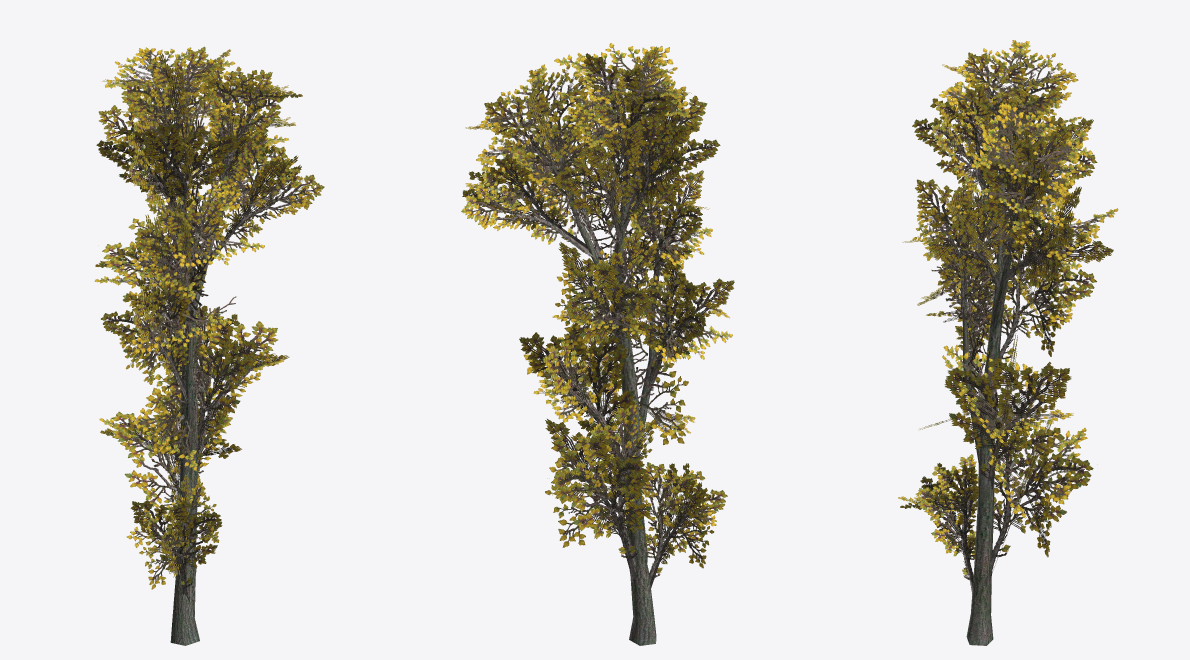
Rendered from flora_tree_poplar_lombardy_autumn.glb.
The picture shows the model from 3 angles, left to right: view 1: azimuth 30°, elevation 25°; view 2: azimuth 150°, elevation 25°; view 3: azimuth 270°, elevation 25°; orthographic projection. The views are drawn at different scales.
Visible parts, largest first — view 1: flora_tree_poplar_lombardy_autumn_part0; view 2: flora_tree_poplar_lombardy_autumn_part0; view 3: flora_tree_poplar_lombardy_autumn_part0.
Boxes of the visible parts, box(x1,y1,x2,y2) form: flora_tree_poplar_lombardy_autumn_part0: box(95, 46, 324, 645); flora_tree_poplar_lombardy_autumn_part0: box(461, 43, 734, 645); flora_tree_poplar_lombardy_autumn_part0: box(898, 40, 1118, 645).
Bounding box in the file's own units: 15.38 × 26.96 × 14.99.
Materials: 1 (1 with a texture image).
